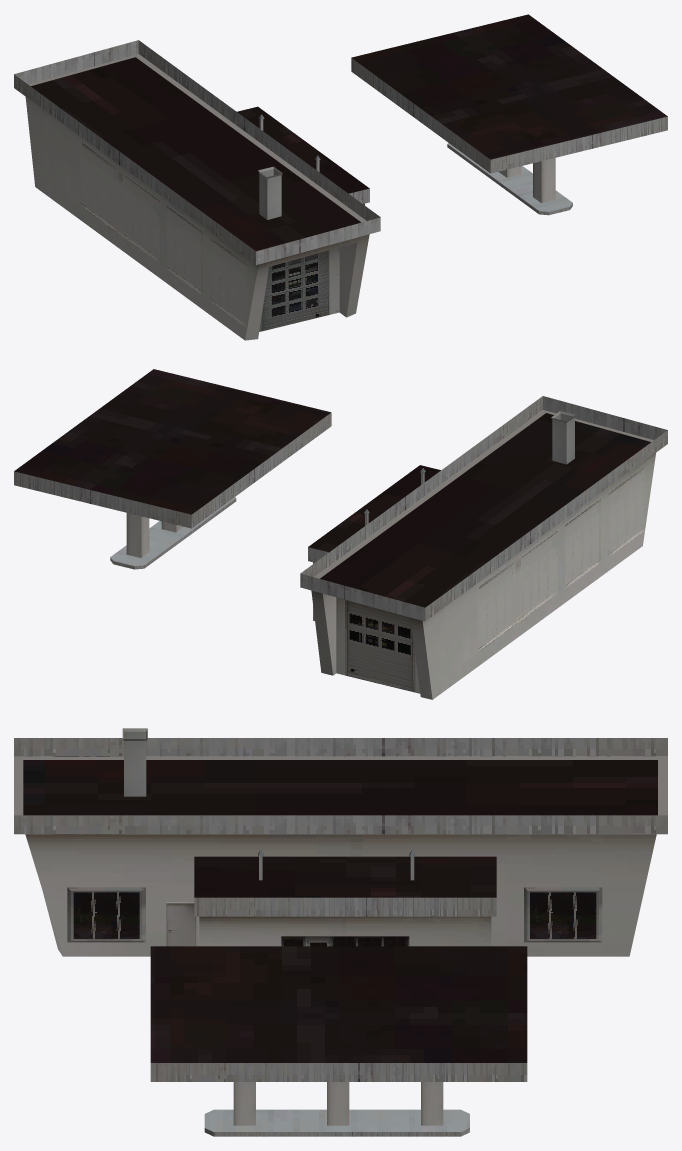
Rendered from BensinStasjon.glb.
The picture shows the model from 3 angles, top to bottom: view 1: azimuth 30°, elevation 25°; view 2: azimuth 150°, elevation 25°; view 3: azimuth 270°, elevation 25°; orthographic projection. The views are drawn at different scales.
Visible parts, largest first — view 1: BensinStasjon; view 2: BensinStasjon; view 3: BensinStasjon.
Boxes of the visible parts, bbox=[...] form: BensinStasjon: bbox=[14, 14, 667, 340]; BensinStasjon: bbox=[14, 369, 667, 699]; BensinStasjon: bbox=[14, 728, 667, 1136].
Size of the model in its own units: 64.56 by 18.2 by 58.54.
Materials: 1 (1 with a texture image).
